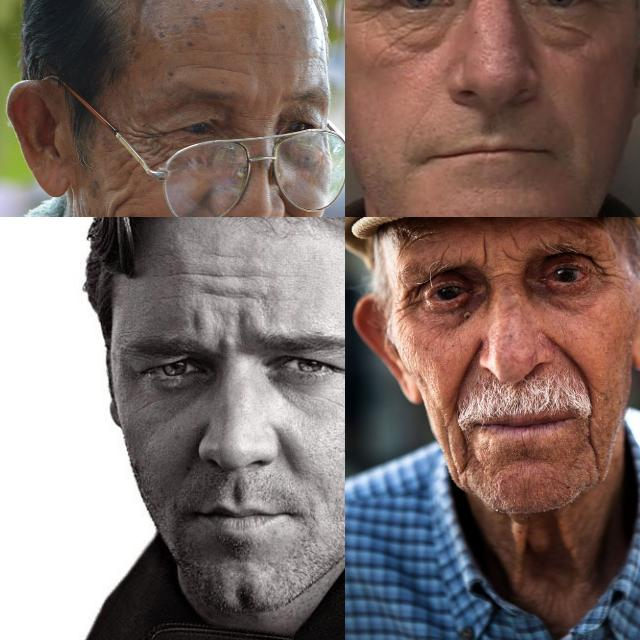crows_feet: (128, 125, 160, 168), (594, 252, 622, 290), (396, 292, 424, 326), (351, 0, 388, 23)
forehead: (180, 264, 282, 302), (194, 59, 244, 80)
frown_line: (220, 310, 260, 342), (498, 228, 522, 268), (478, 233, 497, 277)
gummy_smile: (449, 336, 485, 404), (547, 332, 591, 382), (271, 424, 299, 472), (180, 441, 198, 477), (283, 207, 303, 217)
masseter: (104, 187, 132, 217)
sad_smile: (444, 422, 476, 480), (582, 412, 606, 476)
